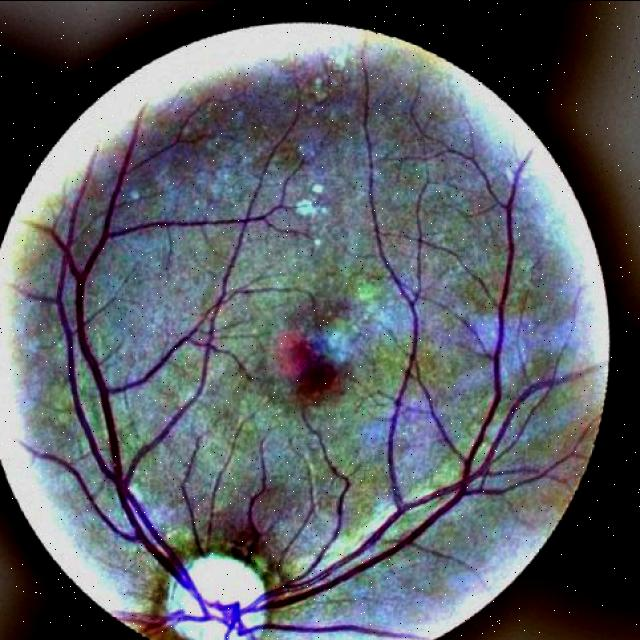Macula: (289, 339, 350, 404)
Nerves: (21, 361, 470, 640), (56, 268, 198, 434), (45, 228, 97, 314), (224, 486, 263, 576), (179, 483, 218, 558)
Optic Disk: (166, 551, 264, 640)
